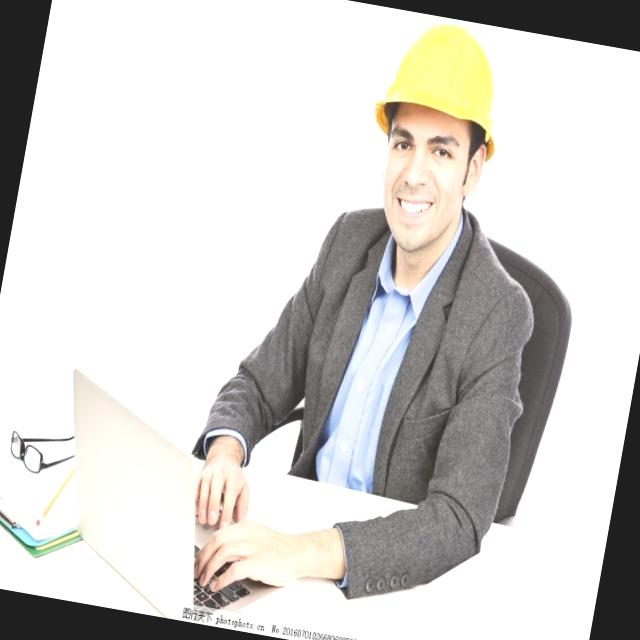helmet: (355, 10, 519, 160)
no-vest: (269, 211, 526, 502)
